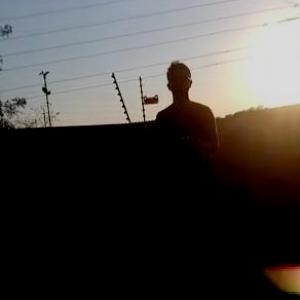follow: (149, 54, 225, 299)
